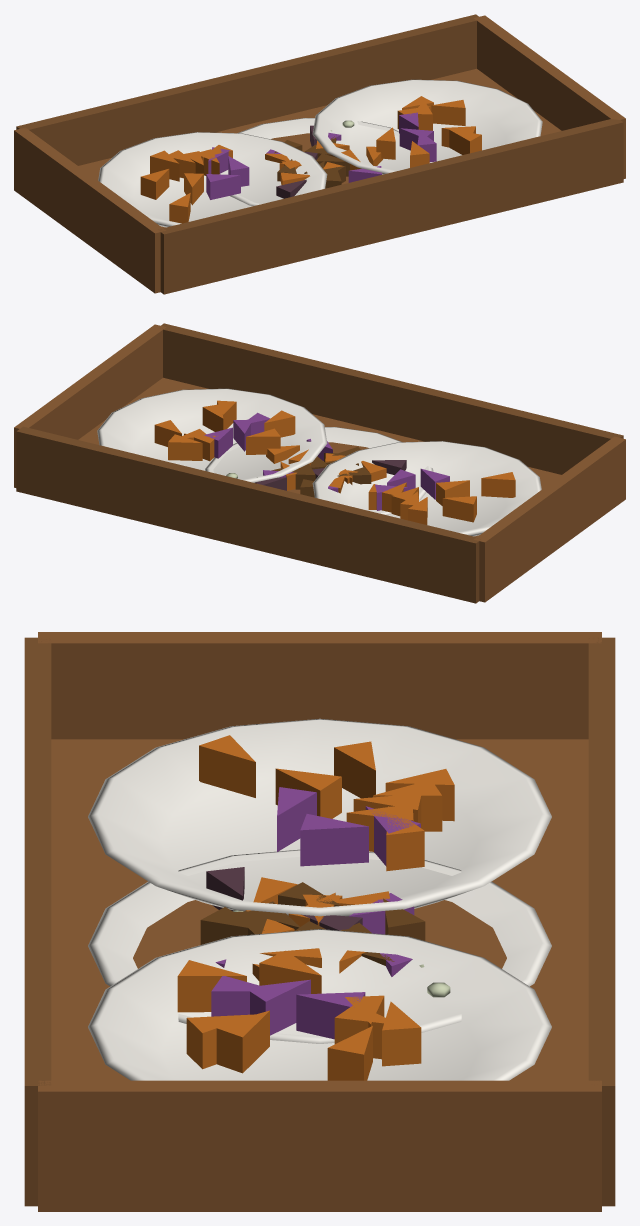
The model's file is Veg_Roasted.fbx.
3 views of the same model, one above another, from view 1: azimuth 30°, elevation 25°; view 2: azimuth 150°, elevation 25°; view 3: azimuth 270°, elevation 25° (orthographic). The views are drawn at different scales.
Visible parts, largest first — view 1: Veg_Roasted__Stack, Veg_Roasted, Veg_Roasted__Rotten; view 2: Veg_Roasted__Stack, Veg_Roasted, Veg_Roasted__Rotten; view 3: Veg_Roasted__Stack, Veg_Roasted, Veg_Roasted__Rotten.
Boxes of the visible parts, x1=… form: Veg_Roasted__Stack: x1=14, y1=14, x2=625, y2=294; Veg_Roasted: x1=230, y1=118, x2=434, y2=206; Veg_Roasted__Rotten: x1=274, y1=120, x2=354, y2=198; Veg_Roasted__Stack: x1=14, y1=323, x2=625, y2=603; Veg_Roasted: x1=205, y1=427, x2=433, y2=515; Veg_Roasted__Rotten: x1=226, y1=446, x2=406, y2=497; Veg_Roasted__Stack: x1=24, y1=632, x2=615, y2=1211; Veg_Roasted: x1=88, y1=849, x2=551, y2=1043; Veg_Roasted__Rotten: x1=200, y1=867, x2=450, y2=997.
Bounding box in the file's own units: 0.328 × 0.04 × 0.178.
